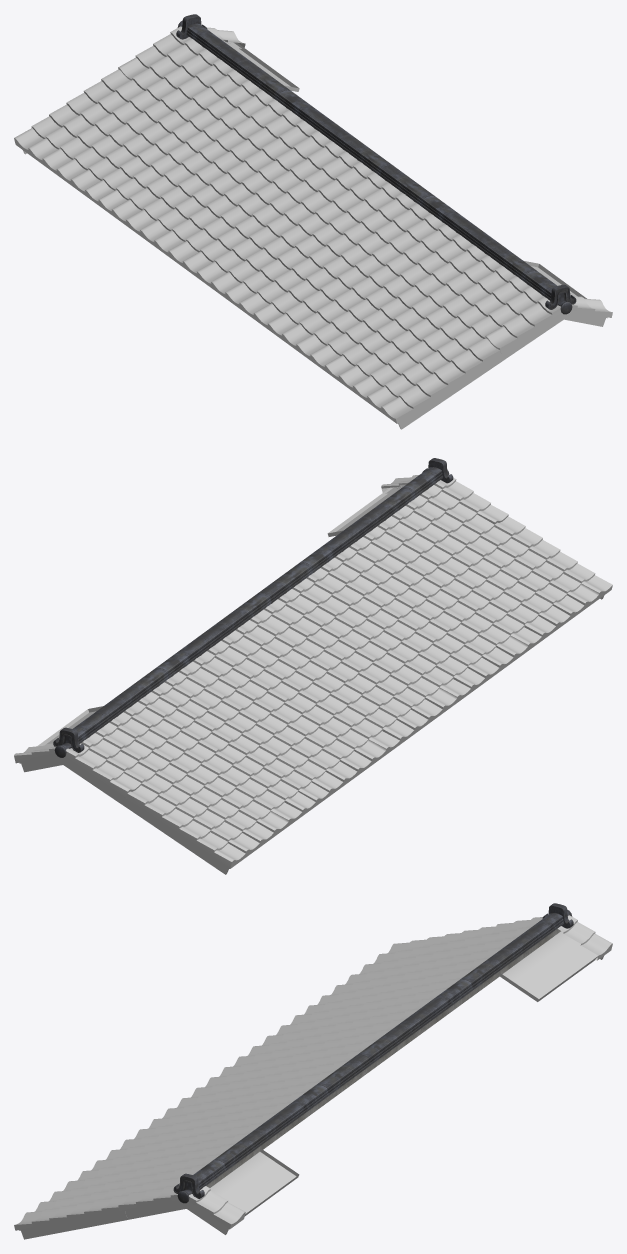
Rendered from SM_KYT_Roof1F_A_M1.fbx.
3 views of the same model, one above another, from view 1: azimuth 30°, elevation 25°; view 2: azimuth 150°, elevation 25°; view 3: azimuth 330°, elevation 25° (orthographic).
Parts seen in each view (by area): view 1: SM_KYT_Roof1F_A_M1_LOD0; view 2: SM_KYT_Roof1F_A_M1_LOD0; view 3: SM_KYT_Roof1F_A_M1_LOD0.
Part boxes in pixels (x1,y1,x2,y2): SM_KYT_Roof1F_A_M1_LOD0: (14,14,612,429); SM_KYT_Roof1F_A_M1_LOD0: (14,458,612,874); SM_KYT_Roof1F_A_M1_LOD0: (14,903,612,1239).
Bounding box in the file's own units: 213 × 649 × 94.82.
